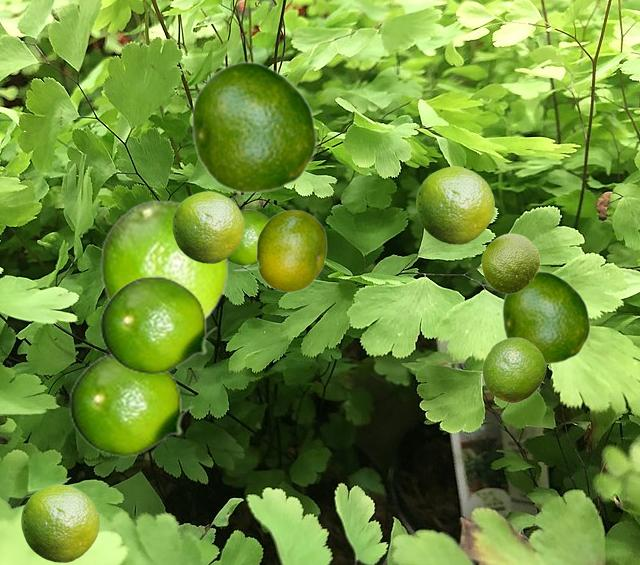calamansi: (190, 60, 317, 193), (100, 199, 228, 320), (68, 352, 194, 456), (99, 276, 218, 374), (501, 270, 590, 364), (232, 209, 326, 291), (416, 166, 493, 243), (21, 484, 98, 561), (172, 191, 243, 262), (482, 337, 545, 402), (481, 233, 539, 293), (229, 209, 269, 265)
